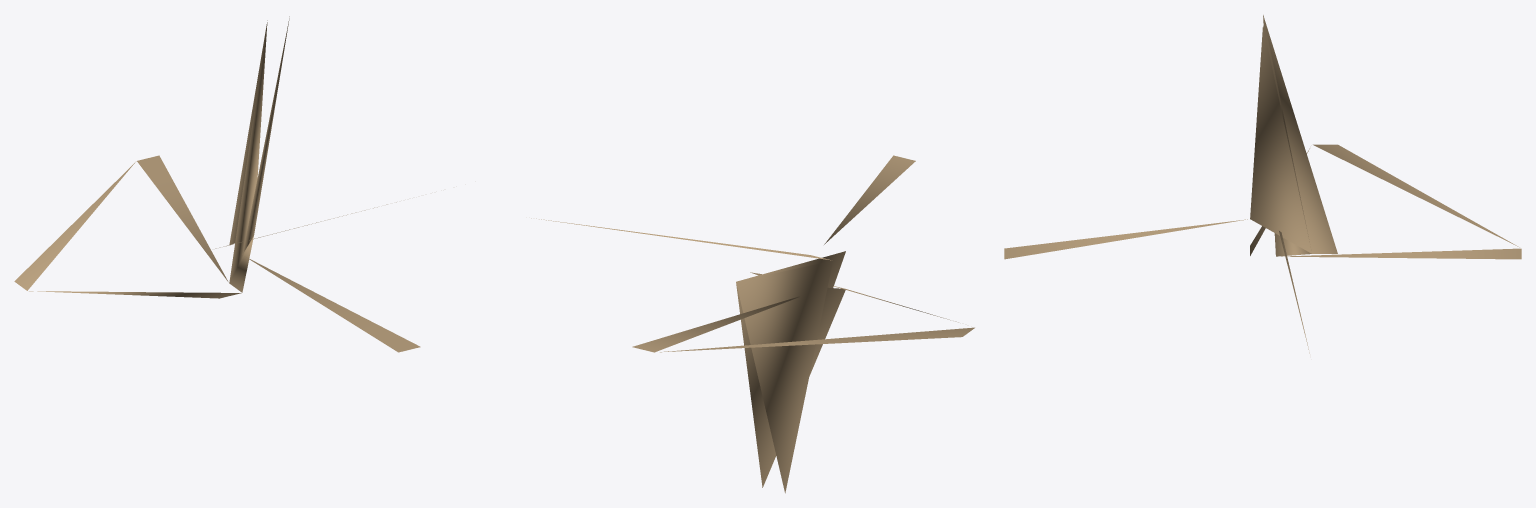
File: equip_hands_leather_gloves.glb
3 views of the same model, side by side, from view 1: azimuth 30°, elevation 25°; view 2: azimuth 150°, elevation 25°; view 3: azimuth 270°, elevation 25° (orthographic).
Visible parts, largest first — view 1: equip_hands_leather_gloves; view 2: equip_hands_leather_gloves; view 3: equip_hands_leather_gloves.
Part boxes in pixels (x1=…): equip_hands_leather_gloves: x1=14, y1=16, x2=420, y2=352; equip_hands_leather_gloves: x1=531, y1=155, x2=974, y2=493; equip_hands_leather_gloves: x1=1004, y1=15, x2=1521, y2=353.
Size of the model in its own units: 2 by 2 by 2.
